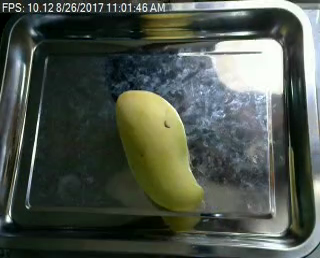Mango: (110, 89, 219, 217)
